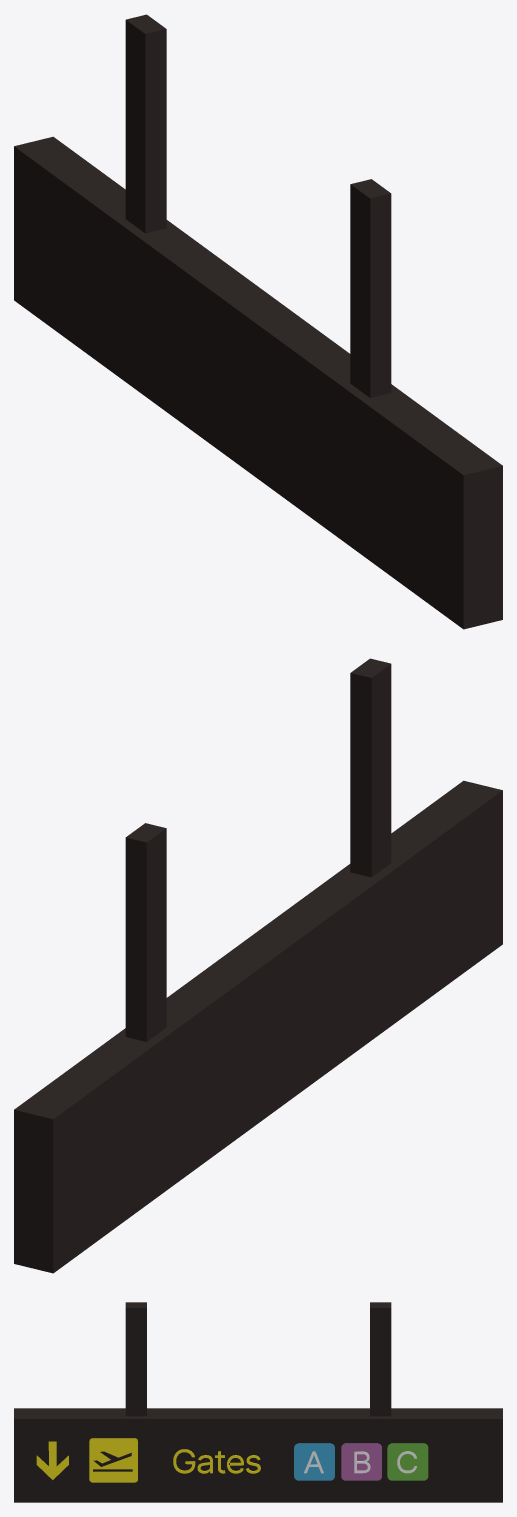
The model's file is gates sign.fbx.
3 renders of one model, top to bottom at view 1: azimuth 30°, elevation 25°; view 2: azimuth 150°, elevation 25°; view 3: azimuth 270°, elevation 25°, orthographic. The views are drawn at different scales.
Visible parts, largest first — view 1: Cube.003; view 2: Cube.003; view 3: Cube.003, Square.001, Plane.002, Plane, Plane.001, Security control.001, arrow.003, BézierCurve.
Boxes of the visible parts, x1,y1,x2,y2 form: Cube.003: (14,14,502,629); Cube.003: (14,658,502,1273); Cube.003: (14,1302,502,1502); Square.001: (89,1438,137,1482); Plane.002: (387,1443,428,1480); Plane: (294,1443,334,1480); Plane.001: (341,1443,381,1480); Security control.001: (173,1449,260,1473); arrow.003: (36,1441,68,1479); BézierCurve: (93,1451,132,1471).
Bounding box in the file's own units: 2.5 × 20.19 × 46.55.
